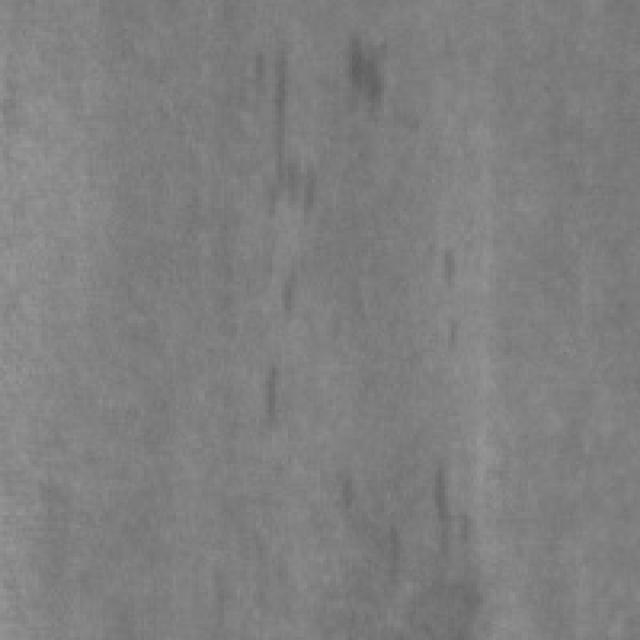inclusion: (234, 42, 323, 224), (365, 454, 477, 596), (326, 22, 394, 122), (243, 346, 294, 444)
